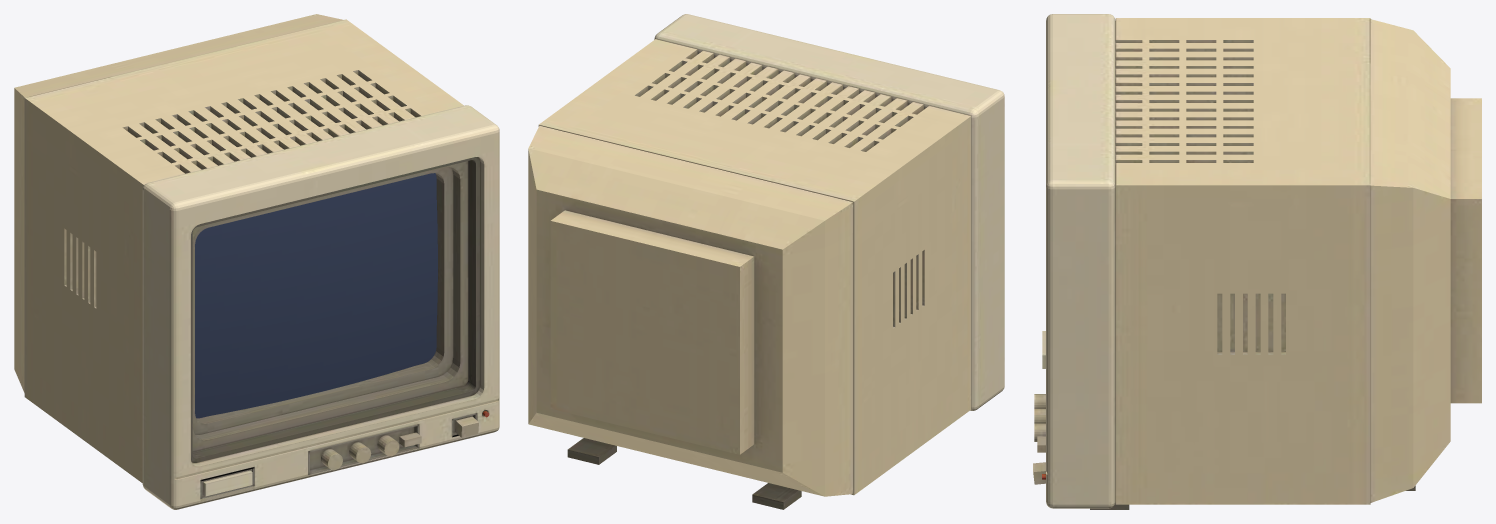
The model's file is homecrt-a.glb.
The picture shows the model from 3 angles, left to right: view 1: azimuth 30°, elevation 25°; view 2: azimuth 150°, elevation 25°; view 3: azimuth 270°, elevation 25°; orthographic projection. The views are drawn at different scales.
Parts seen in each view (by area): view 1: case-baked, glass; view 2: case-baked; view 3: case-baked.
Boxes of the visible parts, x1=… form: case-baked: x1=14, y1=14, x2=499, y2=509; glass: x1=195, y1=173, x2=437, y2=418; case-baked: x1=528, y1=14, x2=1004, y2=509; case-baked: x1=1033, y1=14, x2=1481, y2=509.
Bounding box in the file's own units: 0.35 × 0.32 × 0.3871.
2 materials, 1 textured.
